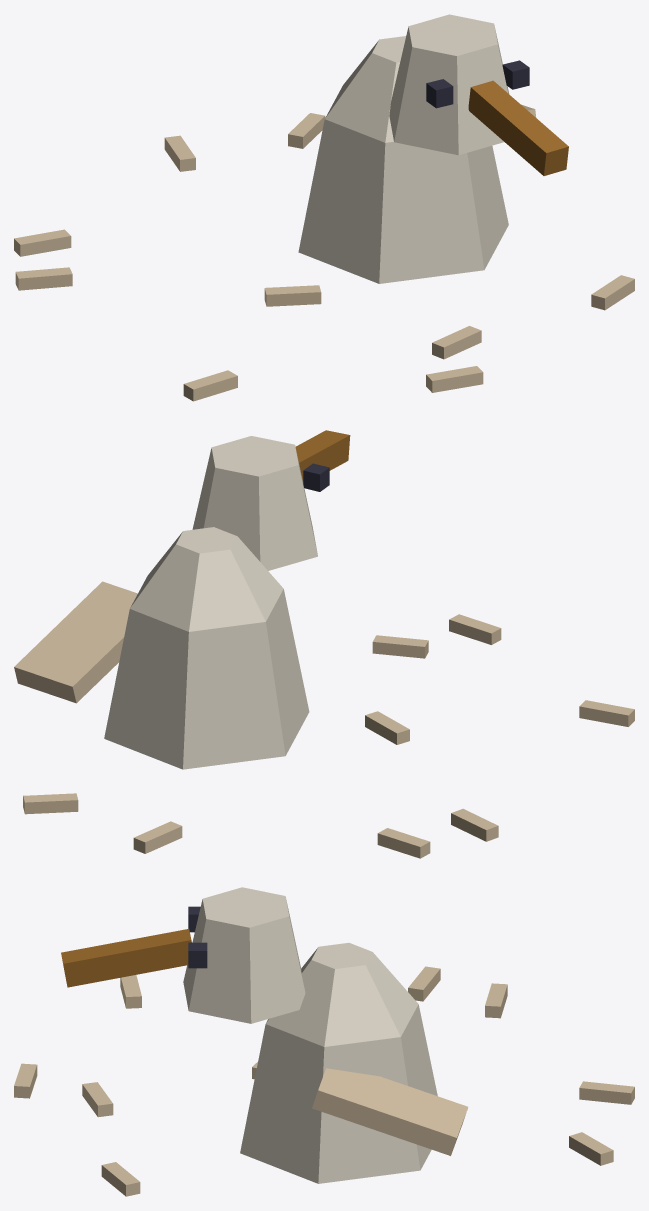
Rendered from pell_gull.glb.
3 renders of one model, top to bottom at view 1: azimuth 30°, elevation 25°; view 2: azimuth 150°, elevation 25°; view 3: azimuth 270°, elevation 25°, orthographic. The views are drawn at different scales.
Parts seen in each view (by area): view 1: bone_d8, driftwood_l15, ember_d35, ink_l10; view 2: bone_d8, driftwood_l15, ember_d35, ink_l10; view 3: bone_d8, driftwood_l15, ember_d35, ink_l10.
Boxes of the visible parts, left/top/right/bottom form: bone_d8: left=298, top=14, right=509, bottom=283; driftwood_l15: left=14, top=104, right=634, bottom=401; ember_d35: left=468, top=80, right=568, bottom=175; ink_l10: left=426, top=60, right=529, bottom=108; bone_d8: left=104, top=436, right=317, bottom=769; driftwood_l15: left=14, top=581, right=634, bottom=858; ember_d35: left=295, top=430, right=350, bottom=481; ink_l10: left=303, top=463, right=329, bottom=491; bone_d8: left=183, top=887, right=437, bottom=1183; driftwood_l15: left=14, top=966, right=634, bottom=1196; ember_d35: left=61, top=929, right=191, bottom=987; ink_l10: left=188, top=906, right=207, bottom=968.
Size of the model in its own units: 0.5035 by 0.24 by 0.5811.
